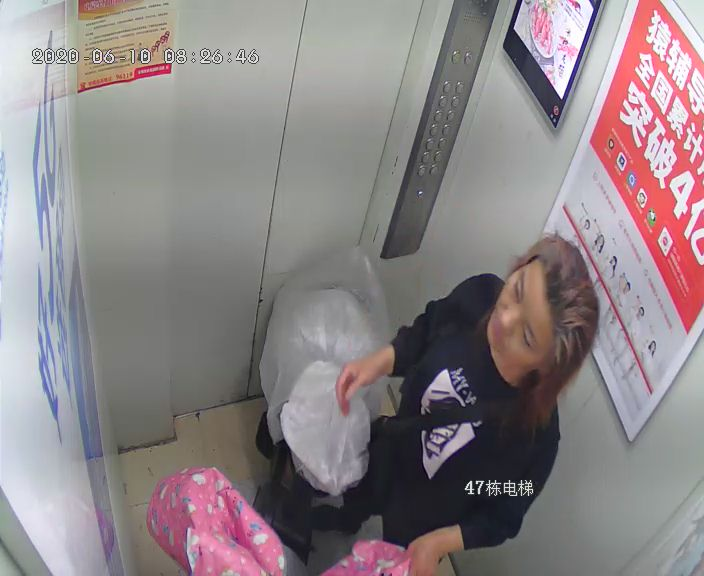Electric-bicycle: (235, 264, 379, 570)
